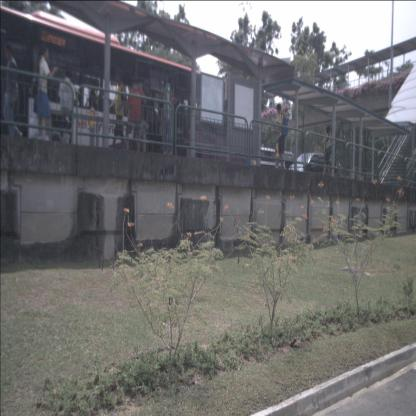human-pedestrian-adult: (33, 43, 60, 144), (3, 42, 23, 142), (125, 78, 147, 154), (58, 69, 77, 148), (110, 68, 126, 156), (163, 74, 178, 158), (274, 102, 289, 172), (321, 123, 334, 178)
vehicle-bus-rigid: (0, 6, 248, 168)
vehicle-car: (250, 148, 298, 182), (288, 151, 336, 181)
